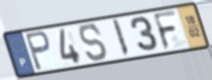3: (130, 16, 160, 53)
4: (58, 26, 82, 66)
F: (151, 9, 179, 52)
I: (111, 18, 132, 59)
P: (23, 30, 52, 72)
S: (78, 23, 110, 64)
